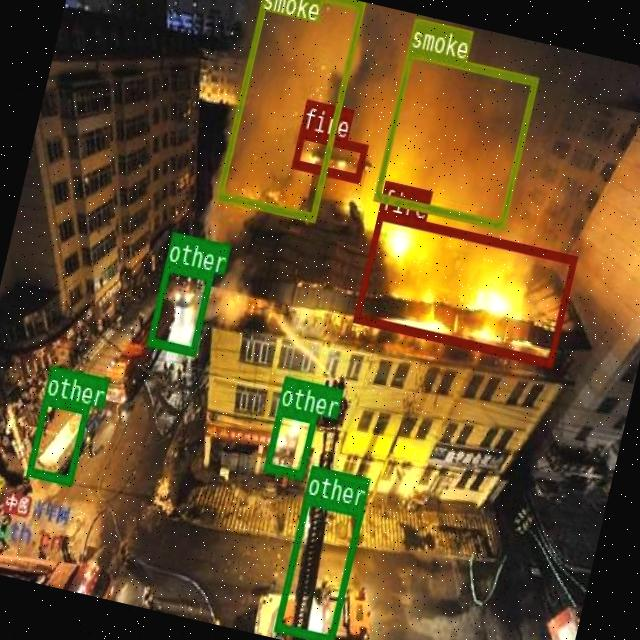fire: (352, 210, 576, 366), (290, 128, 366, 181)
smoke: (215, 0, 364, 219), (372, 46, 537, 228)
